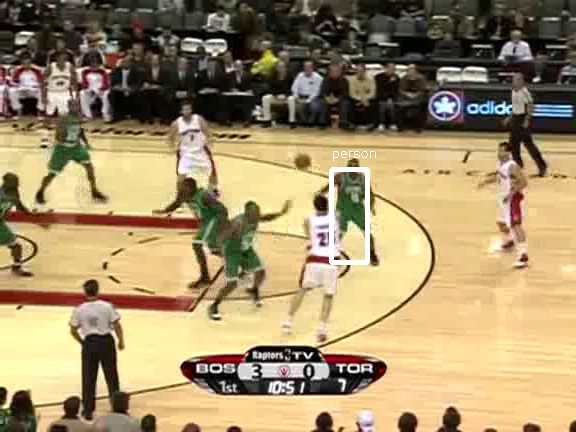person: (338, 160, 372, 241), (337, 160, 371, 241), (339, 160, 373, 241), (338, 159, 372, 240), (338, 161, 372, 242)
target_negative: (402, 146, 543, 341), (206, 350, 363, 420), (104, 331, 281, 368), (513, 263, 541, 403), (146, 416, 418, 427), (440, 429, 446, 432)
